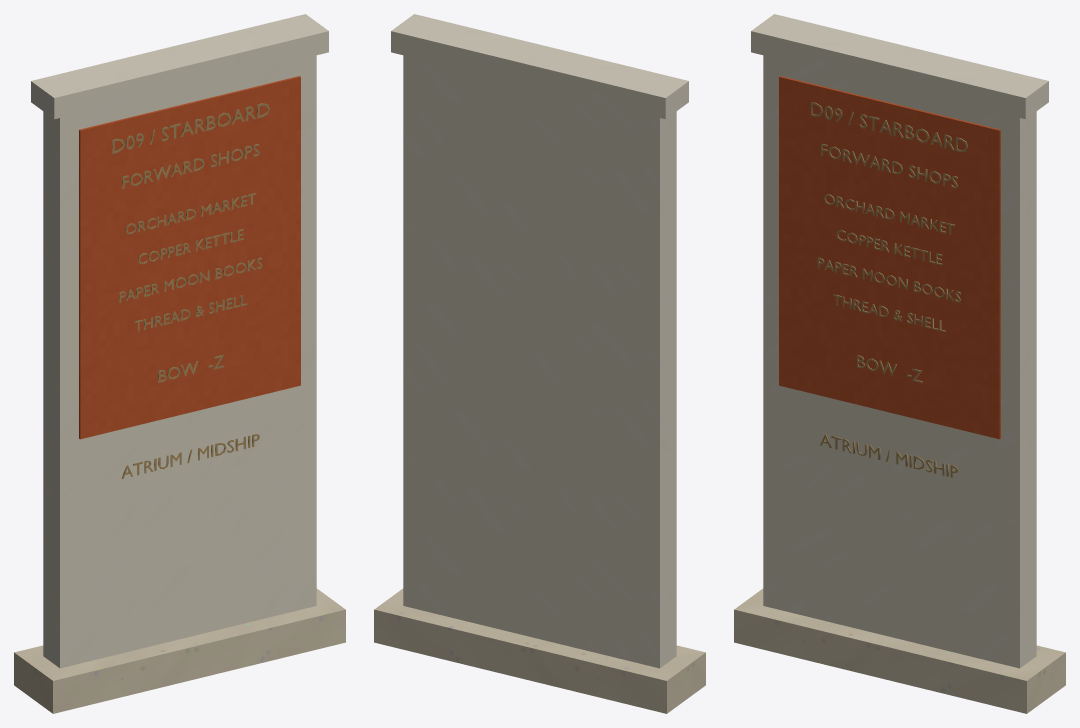
The model's file is guide_starboard_forward_r001.glb.
The picture shows the model from 3 angles, left to right: view 1: azimuth 30°, elevation 25°; view 2: azimuth 150°, elevation 25°; view 3: azimuth 330°, elevation 25°; orthographic projection.
Visible parts, largest first — view 1: profiled_column, recessed_orange_directory, weighted_plinth, crown, heading, district, atrium, venue_2, venue_0, venue_3, venue_1; view 2: profiled_column, weighted_plinth, crown; view 3: profiled_column, recessed_orange_directory, weighted_plinth, crown, heading, district, atrium, venue_2, venue_0, venue_3, venue_1.
Part boxes in pixels (x1,y1,x2,y2): profiled_column: (43, 55, 316, 668); recessed_orange_directory: (79, 76, 300, 439); weighted_plinth: (14, 588, 345, 713); crown: (31, 14, 328, 119); heading: (112, 103, 269, 153); district: (122, 144, 259, 188); atrium: (121, 434, 259, 478); venue_2: (119, 257, 262, 302); venue_0: (125, 193, 256, 234); venue_3: (134, 295, 247, 331); venue_1: (138, 229, 243, 264); profiled_column: (403, 55, 676, 668); weighted_plinth: (374, 588, 705, 713); crown: (391, 14, 688, 119); profiled_column: (763, 55, 1036, 668); recessed_orange_directory: (779, 76, 1000, 439); weighted_plinth: (734, 588, 1065, 713); crown: (751, 14, 1048, 119); heading: (810, 101, 967, 152); district: (821, 143, 957, 188); atrium: (820, 434, 958, 477); venue_2: (817, 257, 960, 302); venue_0: (824, 194, 954, 234); venue_3: (833, 294, 945, 332); venue_1: (836, 230, 942, 265).
Size of the model in its own units: 1.3 by 2.58 by 0.3.
Materials: 4 (4 with a texture image).
